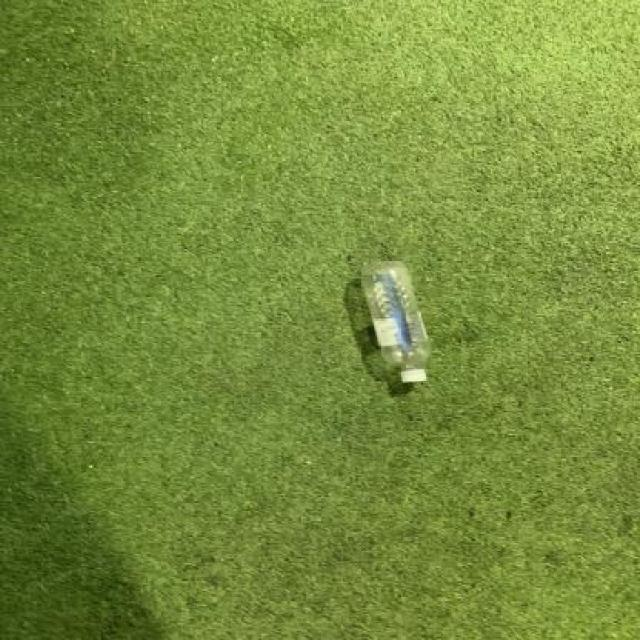trash: (358, 258, 436, 387)
